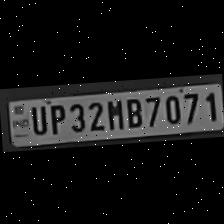0: (160, 92, 182, 124)
1: (198, 87, 219, 121)
2: (85, 96, 105, 130)
3: (64, 98, 84, 132)
7: (180, 88, 200, 122), (141, 92, 161, 125)
B: (122, 94, 142, 128)
M: (102, 95, 124, 129)
P: (44, 100, 66, 134)
U: (26, 102, 46, 134)
